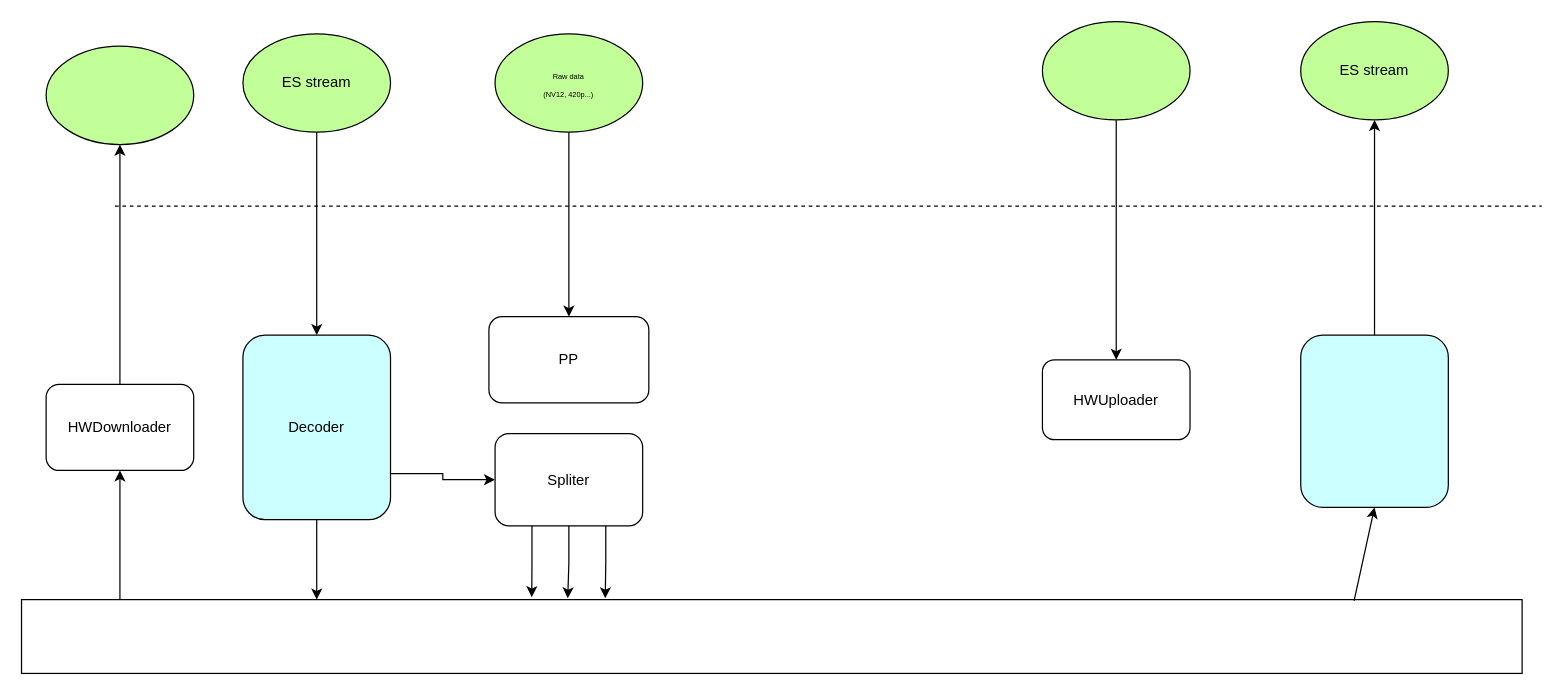
This 1565x695 diagram has some shape labels left out. Here are the shapes that lost their labels. From the top down, the centre of each, then its label:
At point (1115, 70): "Raw Data (UYVY422)".
At point (119, 95): "Raw data (NV12)".
At point (1373, 420): "Encoder".
At point (771, 635): "DDR".
